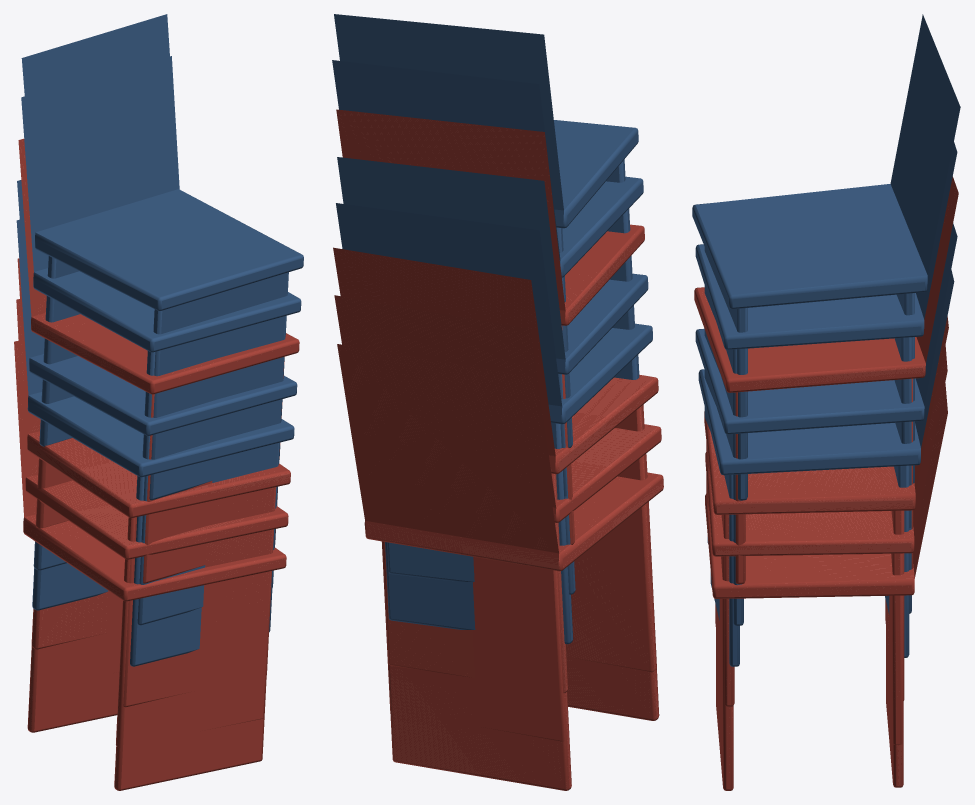
Rendered from ChongGhe.glb.
3 views of the same model, side by side, from view 1: azimuth 30°, elevation 25°; view 2: azimuth 150°, elevation 25°; view 3: azimuth 270°, elevation 25° (orthographic). The views are drawn at different scales.
Visible parts, largest first — view 1: ChongGhe; view 2: ChongGhe; view 3: ChongGhe.
Boxes of the visible parts, box(x1,y1,x2,y2) form: ChongGhe: box(14, 14, 303, 790); ChongGhe: box(332, 14, 663, 790); ChongGhe: box(692, 14, 960, 790).
Bounding box in the file's own units: 0.4528 × 1.46 × 0.5047.
Materials: 1 (1 with a texture image).
